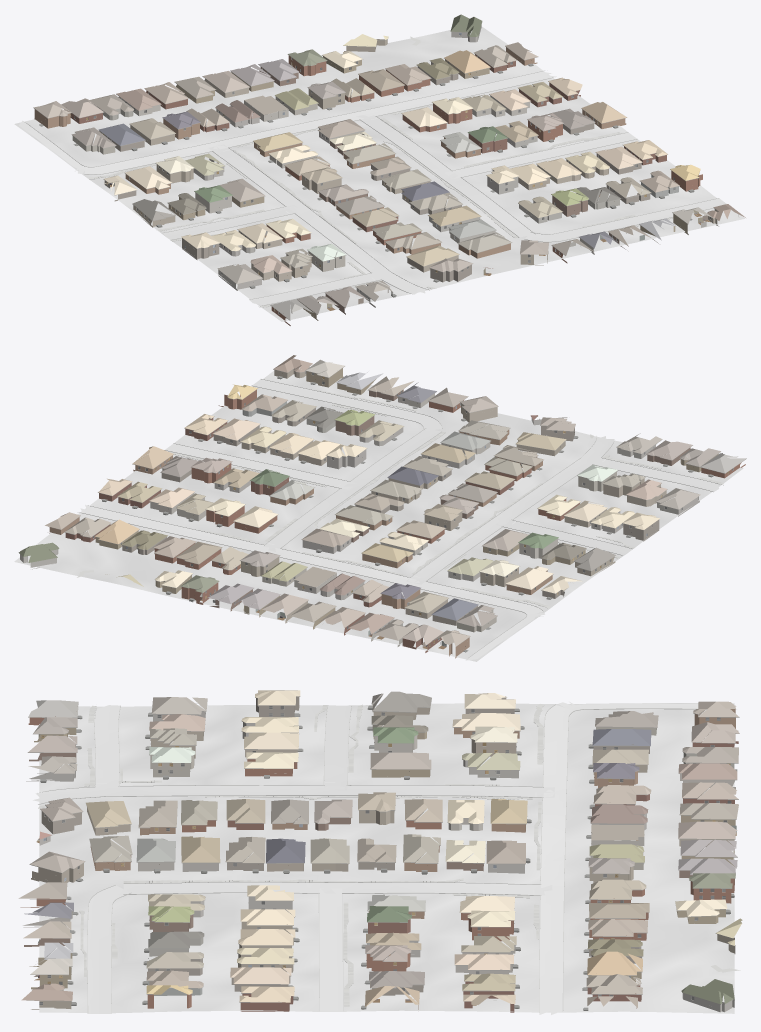
3 views of the same model, one above another, from view 1: azimuth 30°, elevation 25°; view 2: azimuth 150°, elevation 25°; view 3: azimuth 270°, elevation 25° (orthographic). The views are drawn at different scales.
Parts seen in each view (by area): view 1: roof, ground, wall, concrete, detail, wall_stucco, curb, walk, wall_stone, glass; view 2: roof, ground, wall, concrete, detail, wall_stucco, curb, wall_stone, walk, glass; view 3: ground, roof, concrete, wall, detail, walk, wall_stucco, curb, wall_stone, glass.
Part boxes in pixels (<box>): roof: <box>33,14,745,319</box>; ground: <box>14,26,744,321</box>; wall: <box>34,39,718,325</box>; concrete: <box>19,71,726,305</box>; detail: <box>34,22,739,320</box>; wall_stucco: <box>72,79,678,281</box>; curb: <box>25,70,718,307</box>; walk: <box>89,36,673,307</box>; wall_stone: <box>193,25,561,307</box>; glass: <box>74,56,711,314</box>; roof: <box>19,355,746,646</box>; ground: <box>14,371,743,661</box>; wall: <box>49,368,745,658</box>; concrete: <box>80,379,718,660</box>; detail: <box>19,365,746,652</box>; wall_stucco: <box>150,393,666,646</box>; curb: <box>78,379,723,658</box>; wall_stone: <box>20,417,699,600</box>; walk: <box>77,389,723,608</box>; glass: <box>93,371,733,640</box>; ground: <box>39,703,734,1013</box>; roof: <box>18,690,742,1007</box>; concrete: <box>33,701,737,1014</box>; wall: <box>20,696,738,1012</box>; detail: <box>26,696,739,1010</box>; walk: <box>38,704,740,1006</box>; wall_stucco: <box>23,727,737,995</box>; curb: <box>38,704,706,1013</box>; wall_stone: <box>26,711,734,1012</box>; glass: <box>39,706,731,1004</box>.
Size of the model in its own units: 256 by 15.56 by 264.
